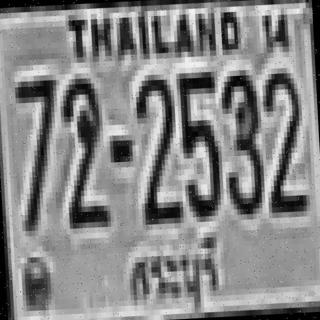N02: (59, 75, 108, 226), (133, 72, 179, 222), (262, 68, 304, 213)
N03: (220, 67, 262, 212)
N05: (176, 66, 222, 218)
N07: (15, 75, 60, 232)
P60: (120, 235, 227, 319)
